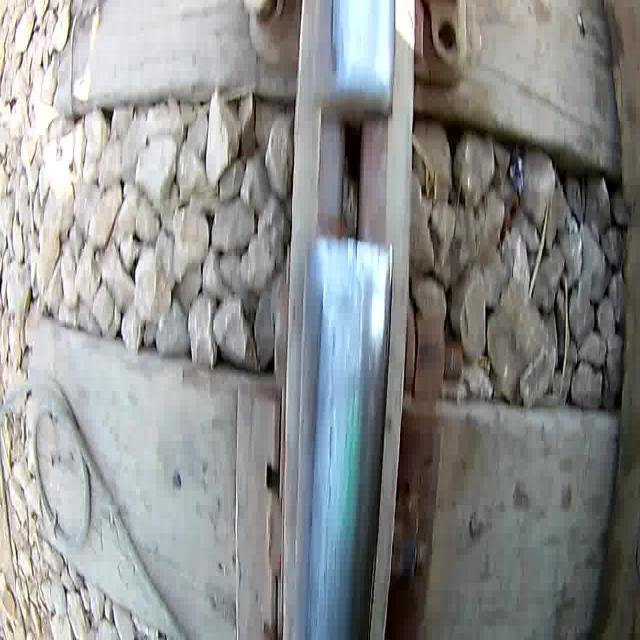Joint: (282, 53, 420, 290)
